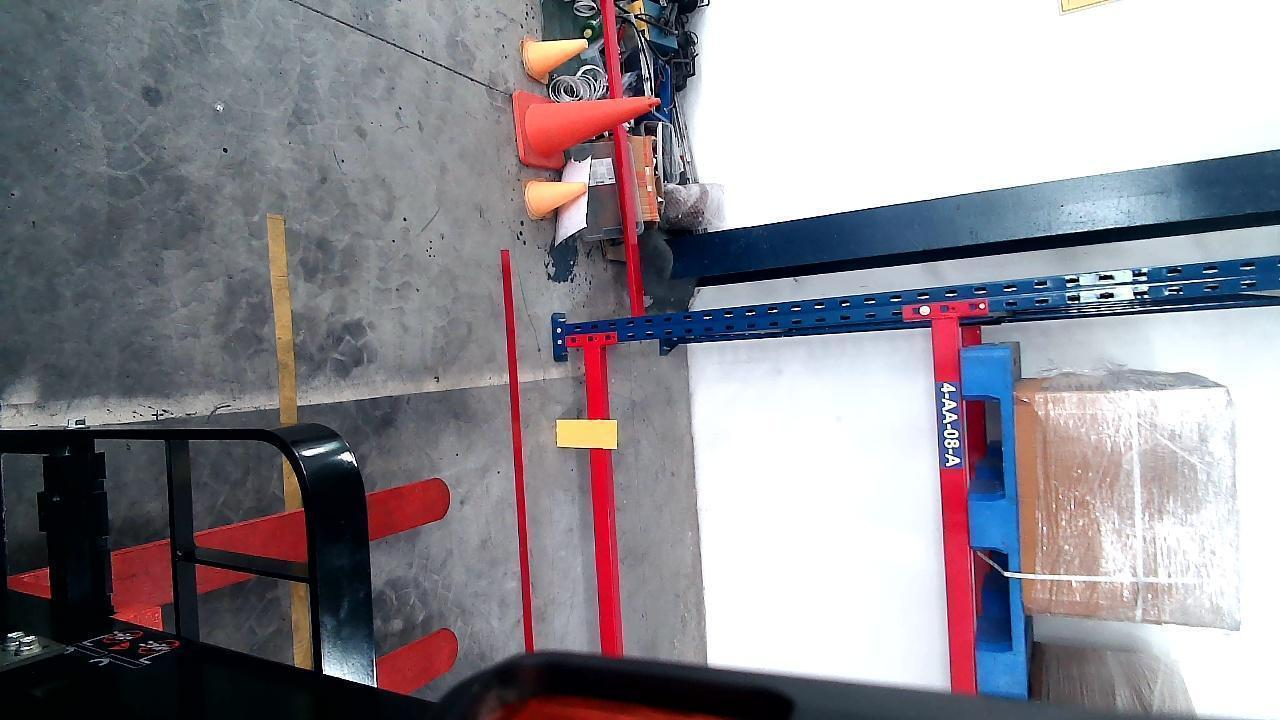red_line: (505, 263, 534, 664)
yellow_line: (269, 207, 298, 420)
